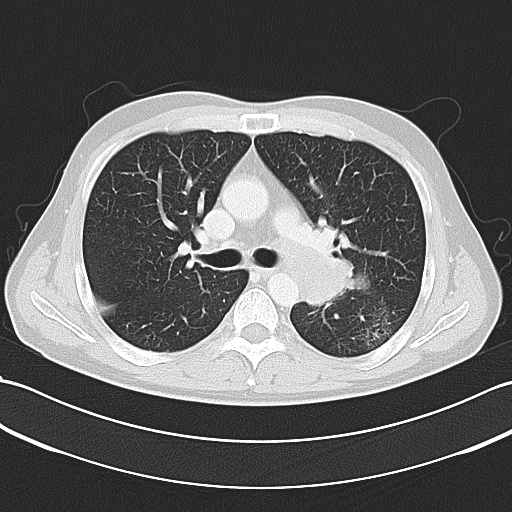Copy of Copy of cancer: (293, 257, 348, 308)
Copy of cancer: (323, 242, 377, 292)
cancer: (309, 257, 363, 307)
non-cancer: (162, 198, 227, 274), (85, 284, 128, 325)
